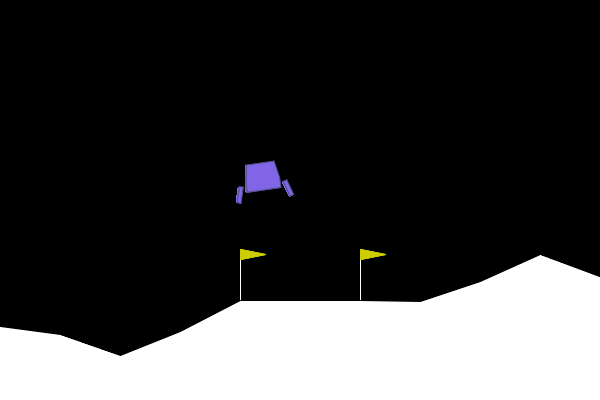lander: (230, 157, 295, 205)
